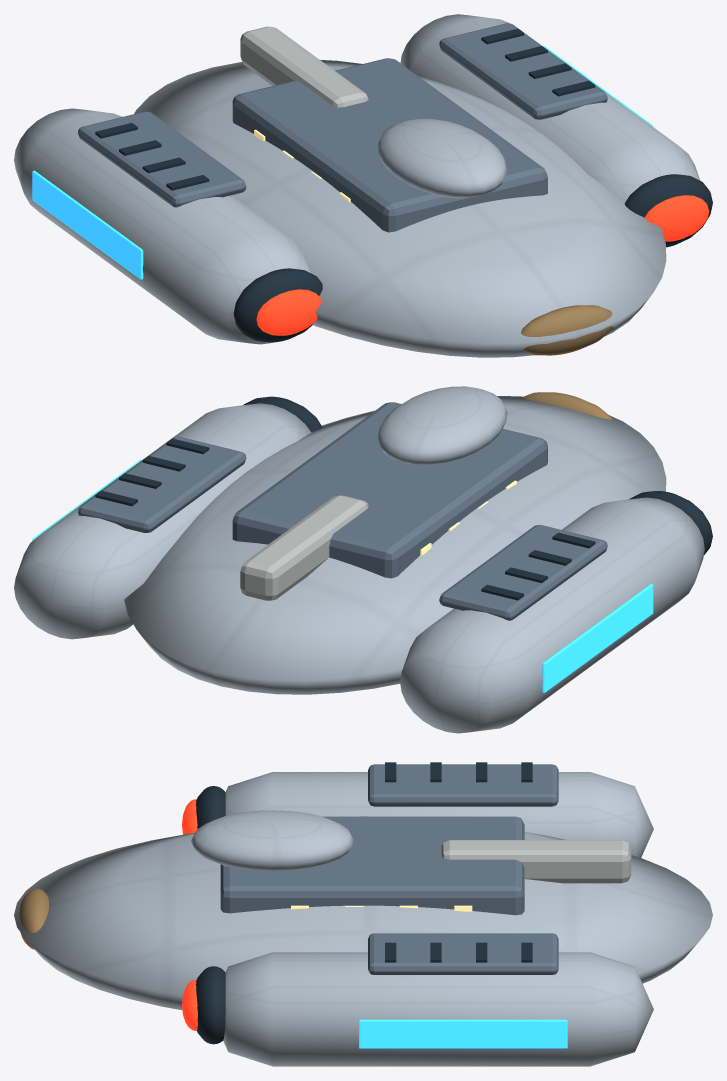
File: Escort_Runtime_LOD1.fbx
3 renders of one model, top to bottom at view 1: azimuth 30°, elevation 25°; view 2: azimuth 150°, elevation 25°; view 3: azimuth 270°, elevation 25°, orthographic. The views are drawn at different scales.
Parts seen in each view (by area): view 1: Escort_LOD1; view 2: Escort_LOD1; view 3: Escort_LOD1.
Part boxes in pixels (x1,y1,x2,y2): Escort_LOD1: (14,14,712,357); Escort_LOD1: (14,386,712,733); Escort_LOD1: (14,762,712,1066).
Size of the model in its own units: 13788 by 3974 by 17000.
Materials: 1 (1 with a texture image).
